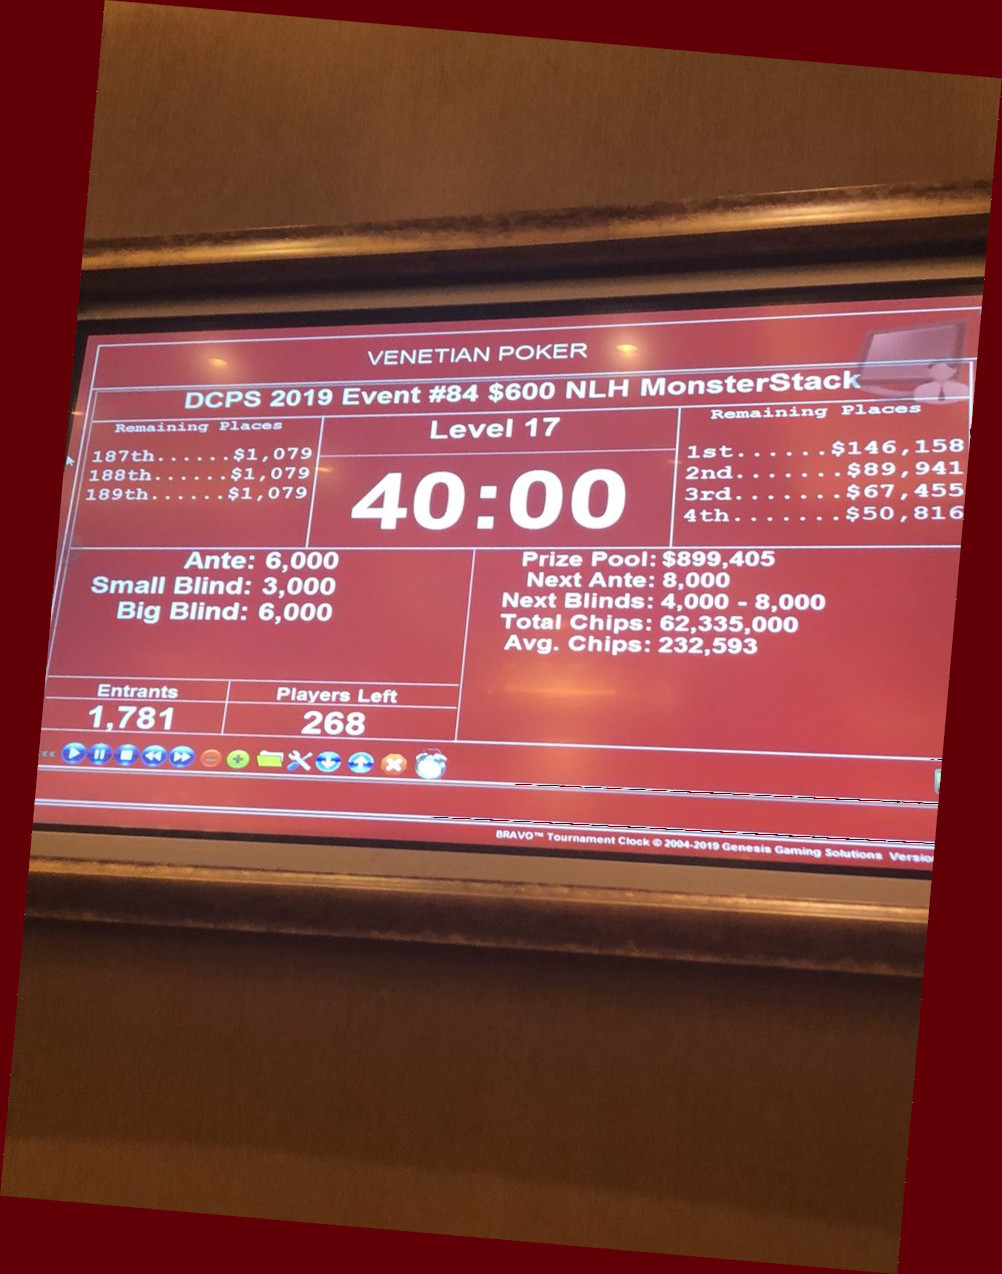PlayersLeft: (218, 675, 460, 745)
Remaining: (84, 419, 325, 551)
